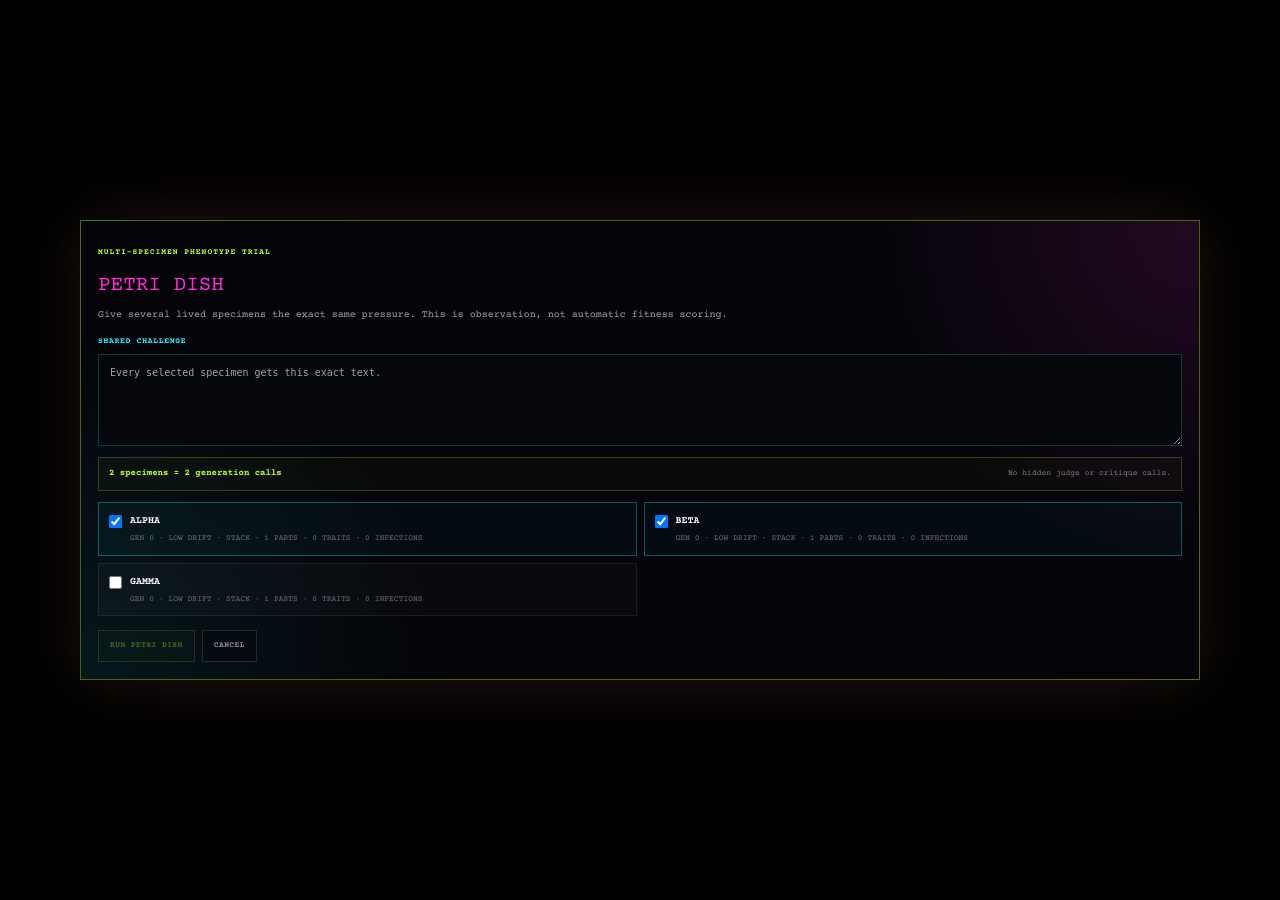
Petri Dish setup and preflight UI › requires a non-empty challenge and 2–8 entrants before run
The image size is (1280, 900).
Expected: the button "RUN PETRI DISH" is disabled, top-left (98, 630), bottom-right (195, 662)
Type "Make something strange and useful." into the text box labelled "SHARED CHALLENGE" at (640, 400), box top-left (98, 354), bottom-right (1182, 446)
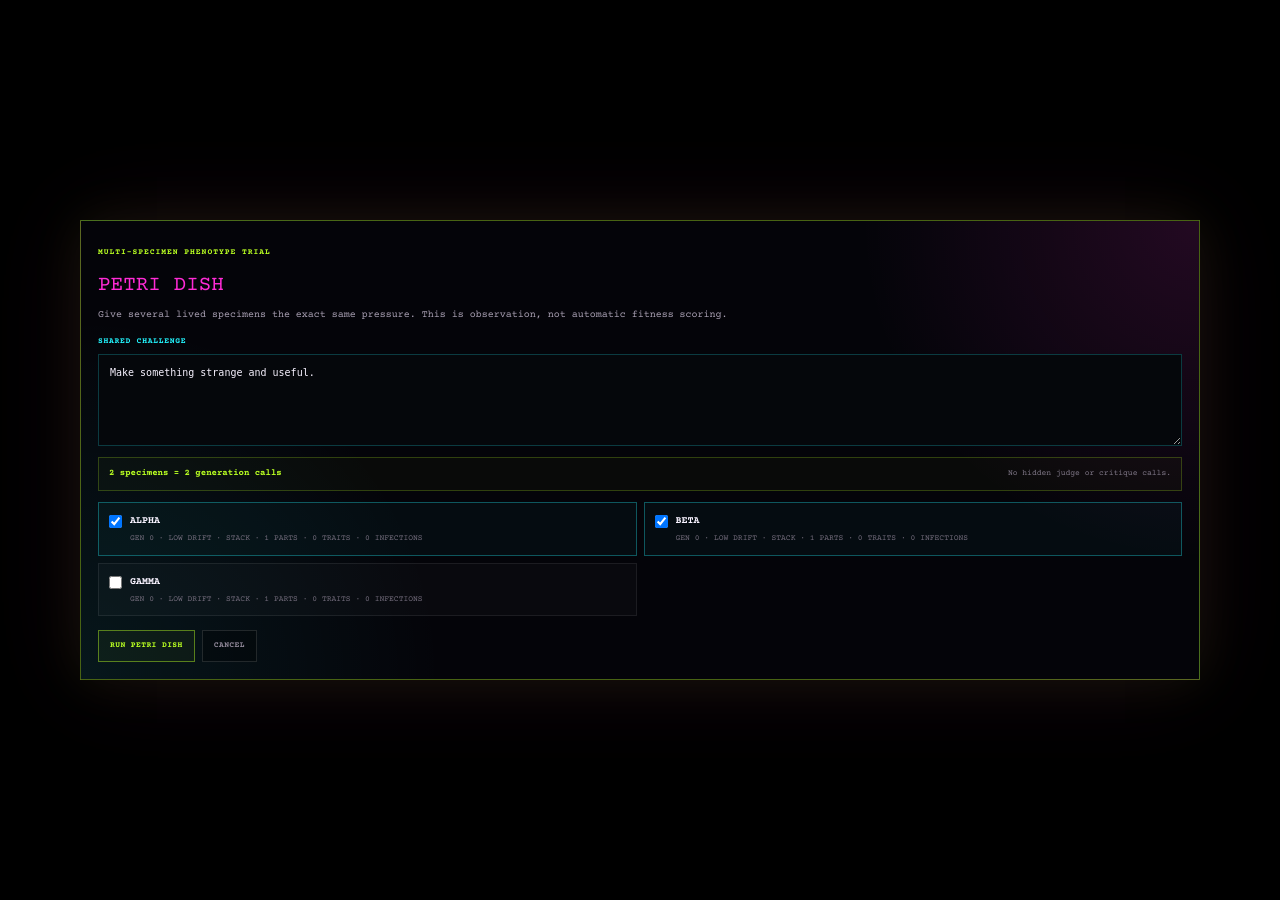
Result: the button "RUN PETRI DISH" is enabled at top-left (98, 630), bottom-right (195, 662)
Click the checkbox labelled "BETA" at (661, 521), box top-left (654, 515), bottom-right (668, 528)
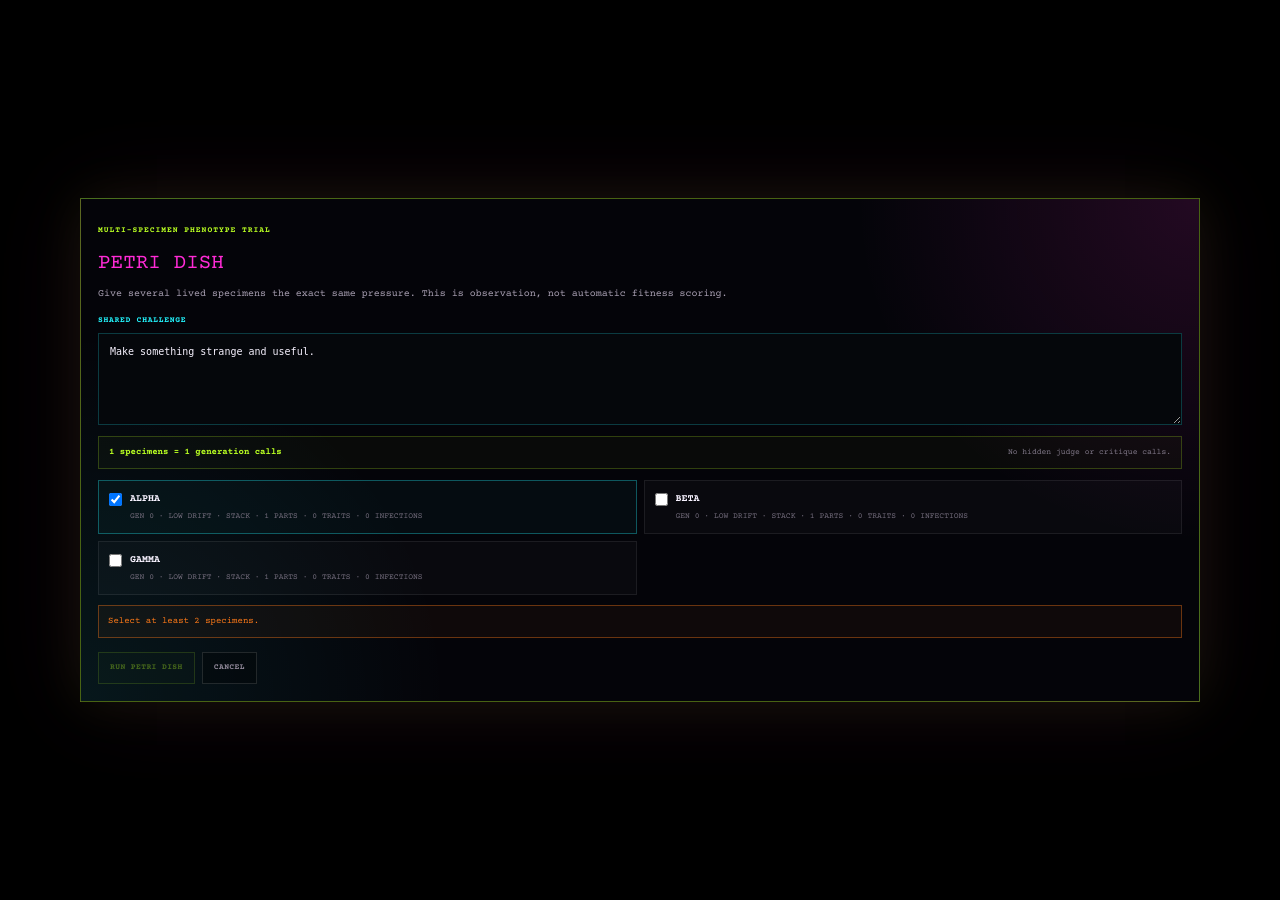
Result: the button "RUN PETRI DISH" is disabled at top-left (98, 652), bottom-right (195, 684)
Result: the text "Select at least 2 specimens." is shown at top-left (98, 605), bottom-right (1182, 638)
Click the checkbox labelled "GAMMA" at (116, 560), box top-left (109, 554), bottom-right (122, 567)
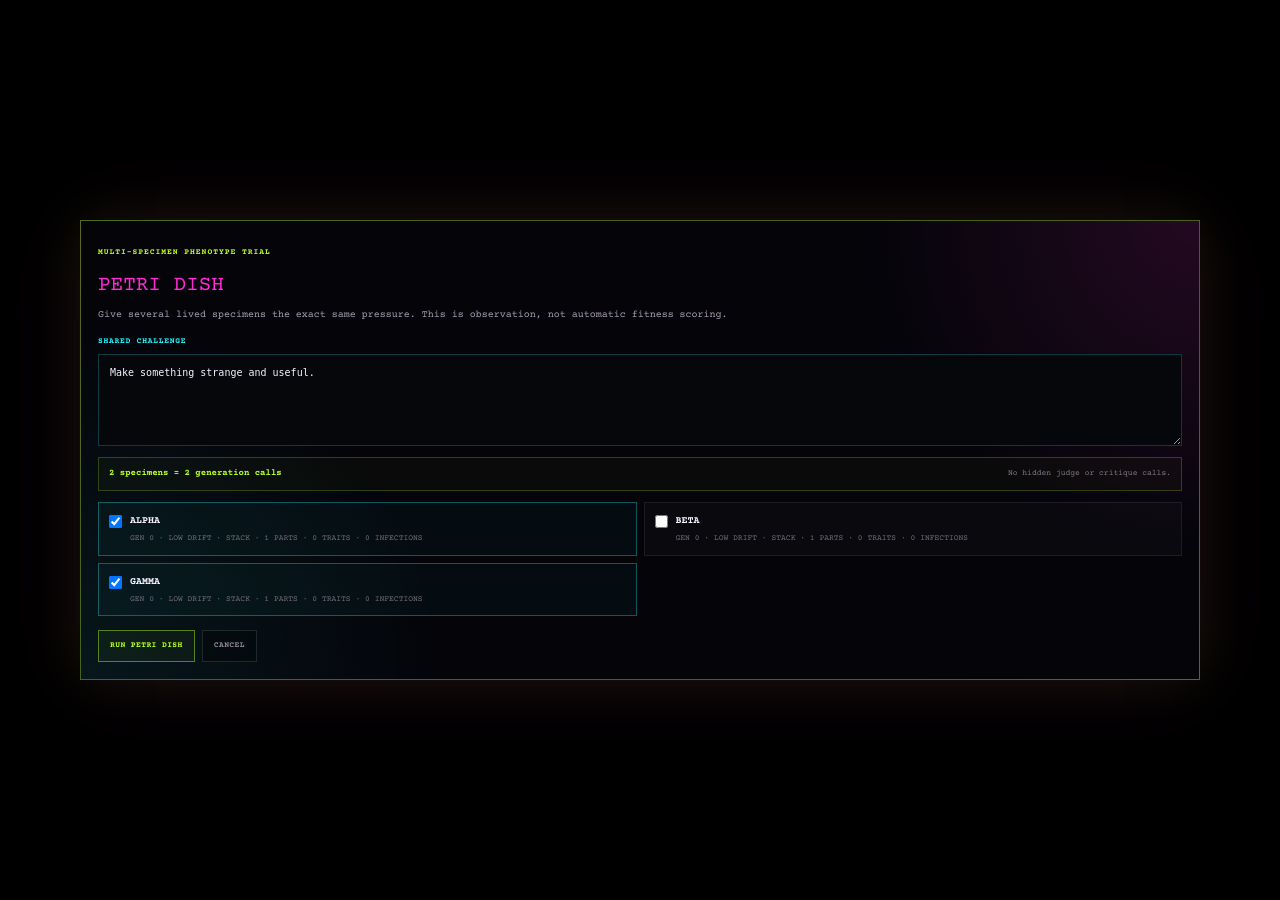
Result: the button "RUN PETRI DISH" is enabled at top-left (98, 630), bottom-right (195, 662)
